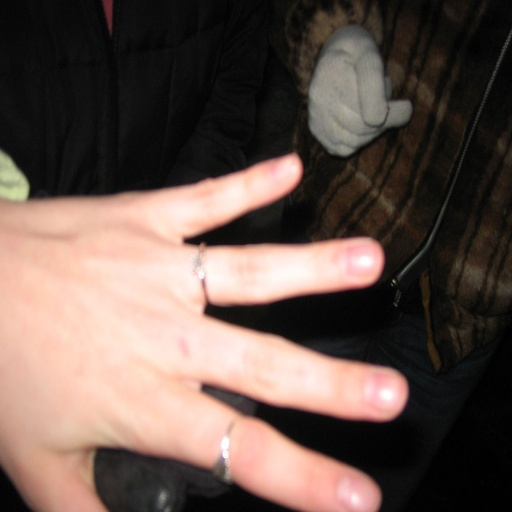hand: (0, 152, 408, 511)
